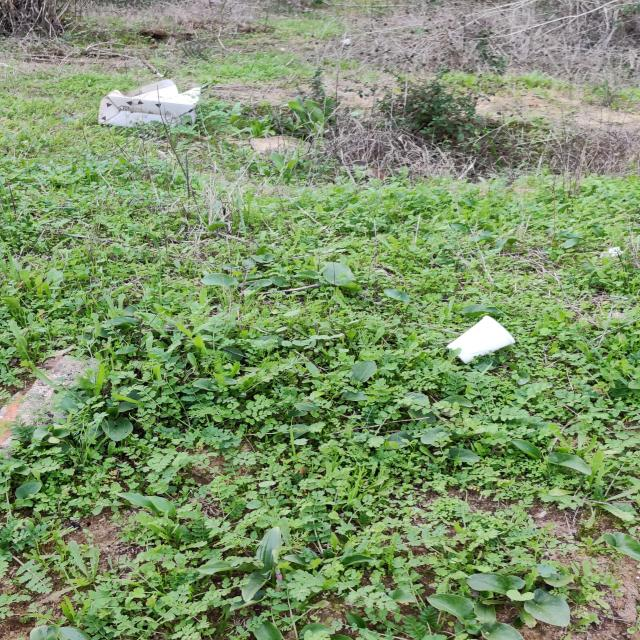litter: (97, 80, 201, 132), (447, 315, 516, 363), (600, 246, 627, 259), (340, 39, 353, 45)
